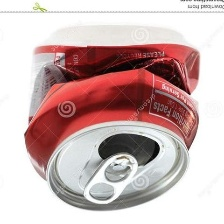can: (19, 24, 203, 215)
